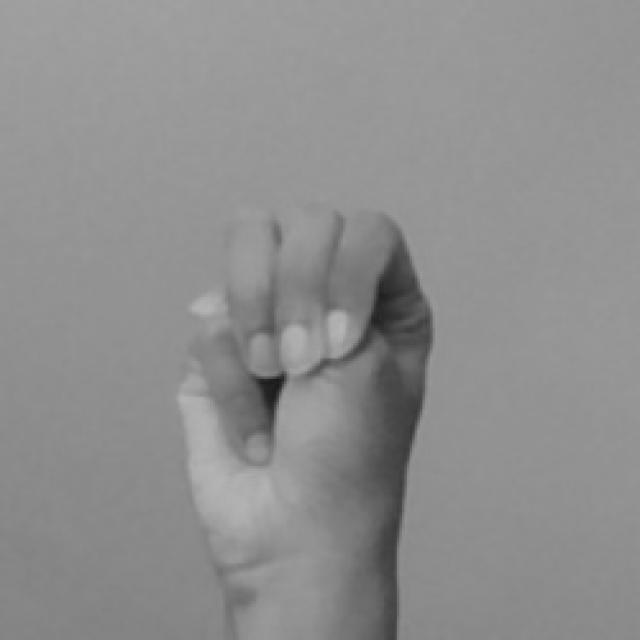M: (146, 197, 438, 640)
